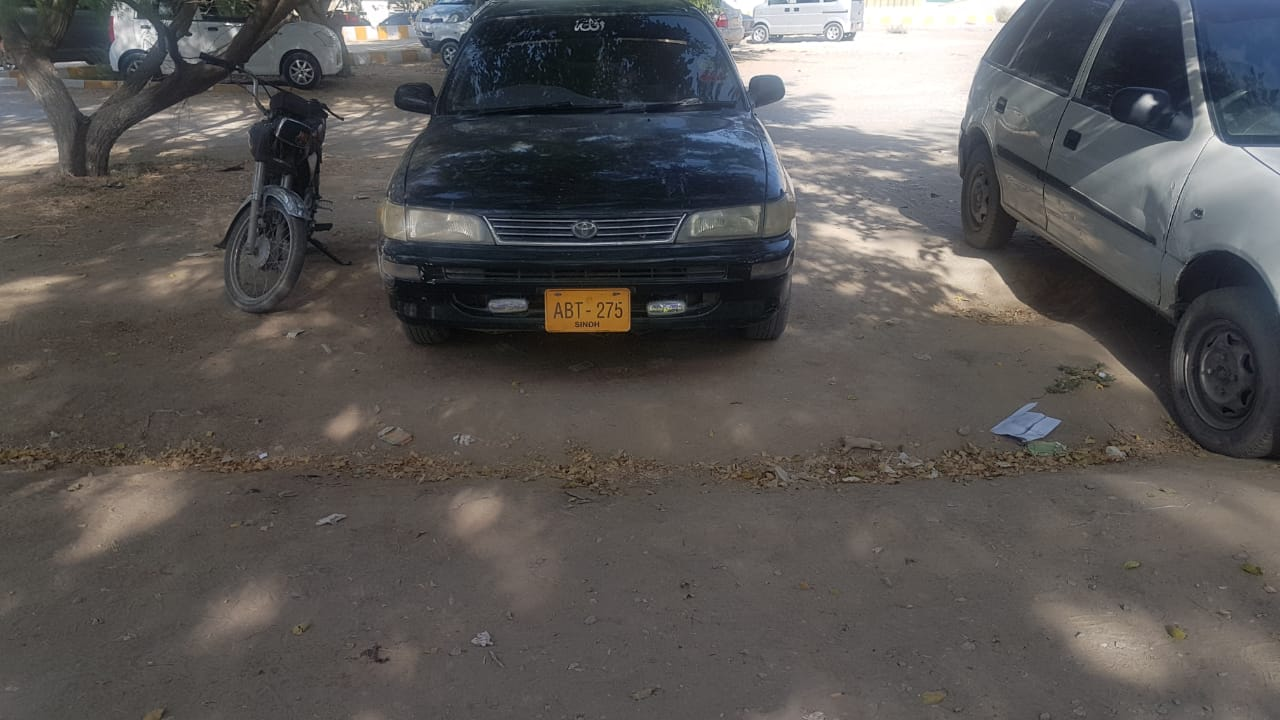license plate: (544, 289, 632, 332)
